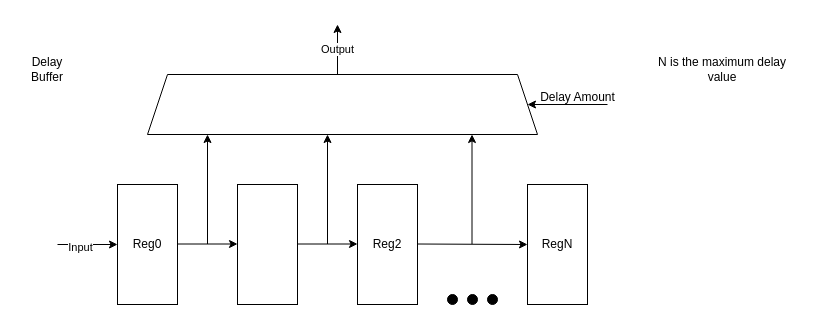
This 814x322 diagram has some shape labels left out. The centre of each missing label's shape, as x and y in pixels:
"Mux" belongs at pixel 342 104.
"Reg1" belongs at pixel 267 244.
